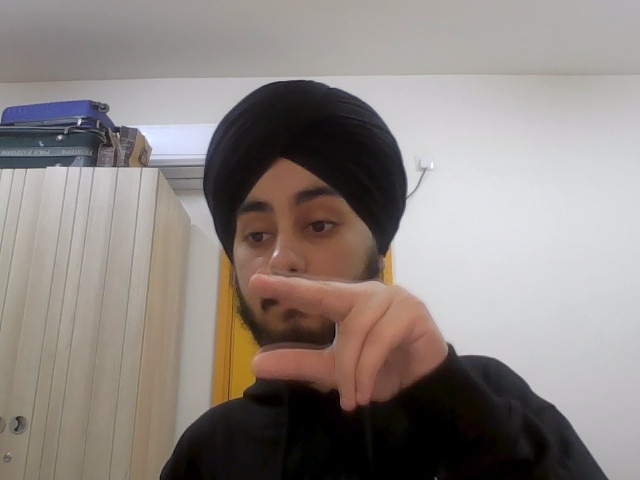No: (247, 268, 455, 413)
